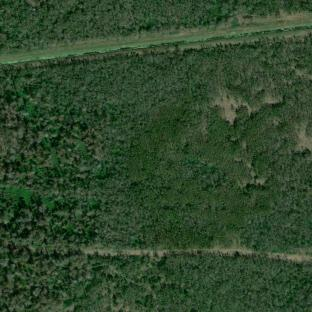Floresta: (0, 35, 312, 312), (0, 36, 312, 252), (0, 245, 312, 312), (0, 0, 312, 53)
